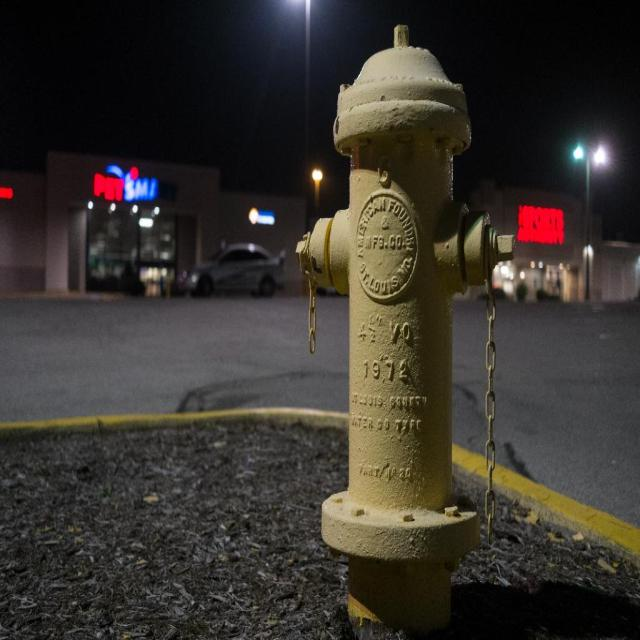fire_hydrant: (292, 22, 512, 639)
